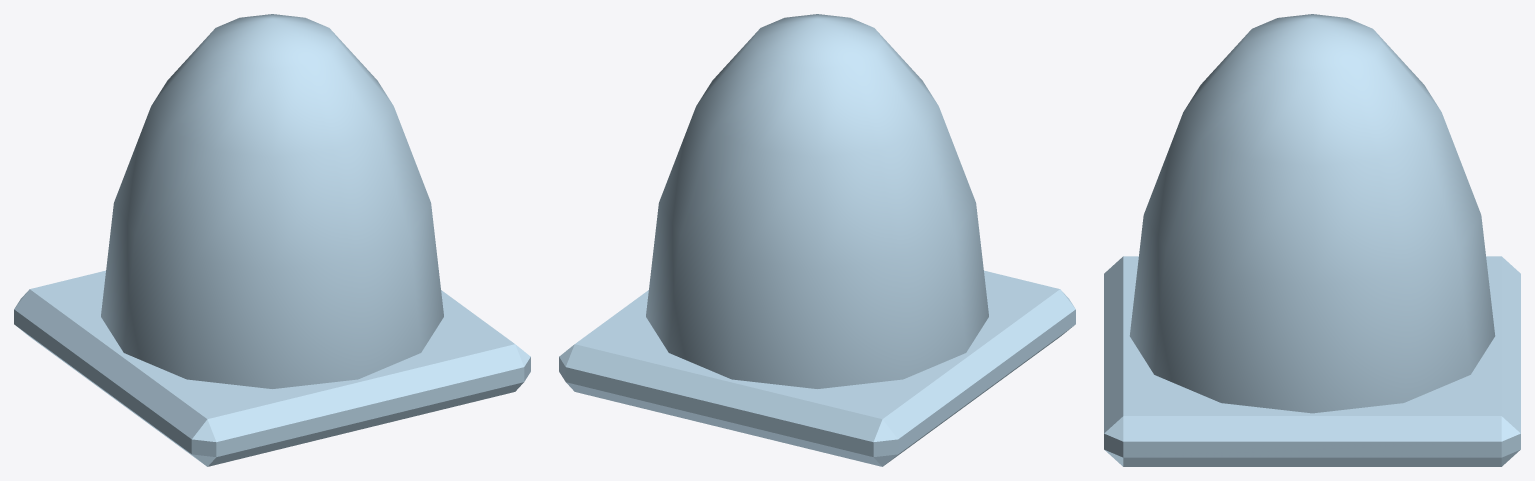
The model's file is R4B_Dome_LOD1.glb.
The picture shows the model from 3 angles, left to right: view 1: azimuth 30°, elevation 25°; view 2: azimuth 150°, elevation 25°; view 3: azimuth 270°, elevation 25°; orthographic projection. The views are drawn at different scales.
Visible parts, largest first — view 1: R4B_Dome_LOD1; view 2: R4B_Dome_LOD1; view 3: R4B_Dome_LOD1.
Boxes of the visible parts, left/top/right/bottom form: R4B_Dome_LOD1: left=14, top=14, right=530, bottom=466; R4B_Dome_LOD1: left=559, top=14, right=1075, bottom=466; R4B_Dome_LOD1: left=1104, top=14, right=1520, bottom=466.
Bounding box in the file's own units: 0.52 × 0.506 × 0.52.
